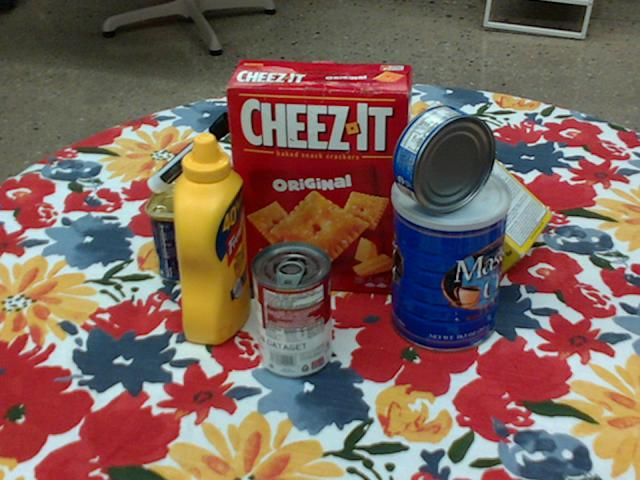cracker_box: (228, 60, 416, 290)
gelatin_box: (190, 150, 275, 228)
large_marker: (147, 111, 238, 192)
master_chef_can: (390, 165, 509, 354)
mug: (344, 126, 429, 225)
mustard_bottle: (173, 133, 250, 346)
potted_meat_can: (144, 165, 223, 285)
sugar_box: (377, 103, 555, 277)
tomato_soup_can: (250, 241, 331, 378)
tuna_fish_can: (394, 105, 496, 214)
